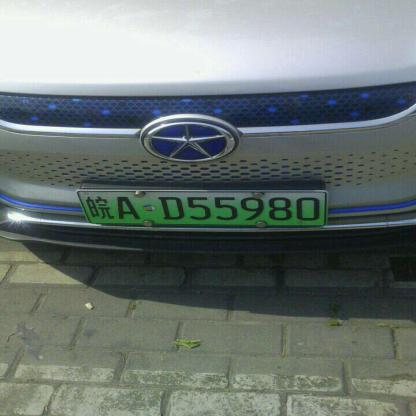lp: (78, 192, 326, 224)
